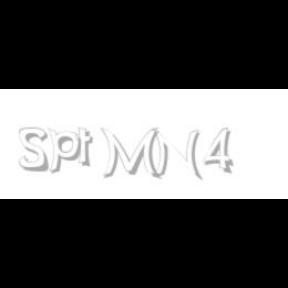4: (202, 128, 234, 174)
M: (101, 128, 160, 180)
N: (152, 128, 200, 180)
S: (18, 128, 50, 172)
p: (48, 128, 84, 174)
t: (75, 128, 97, 168)
